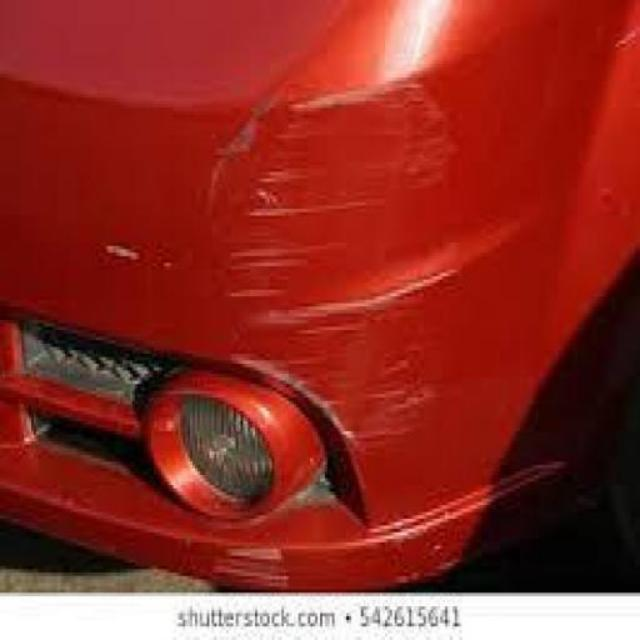rub: (229, 67, 457, 448)
